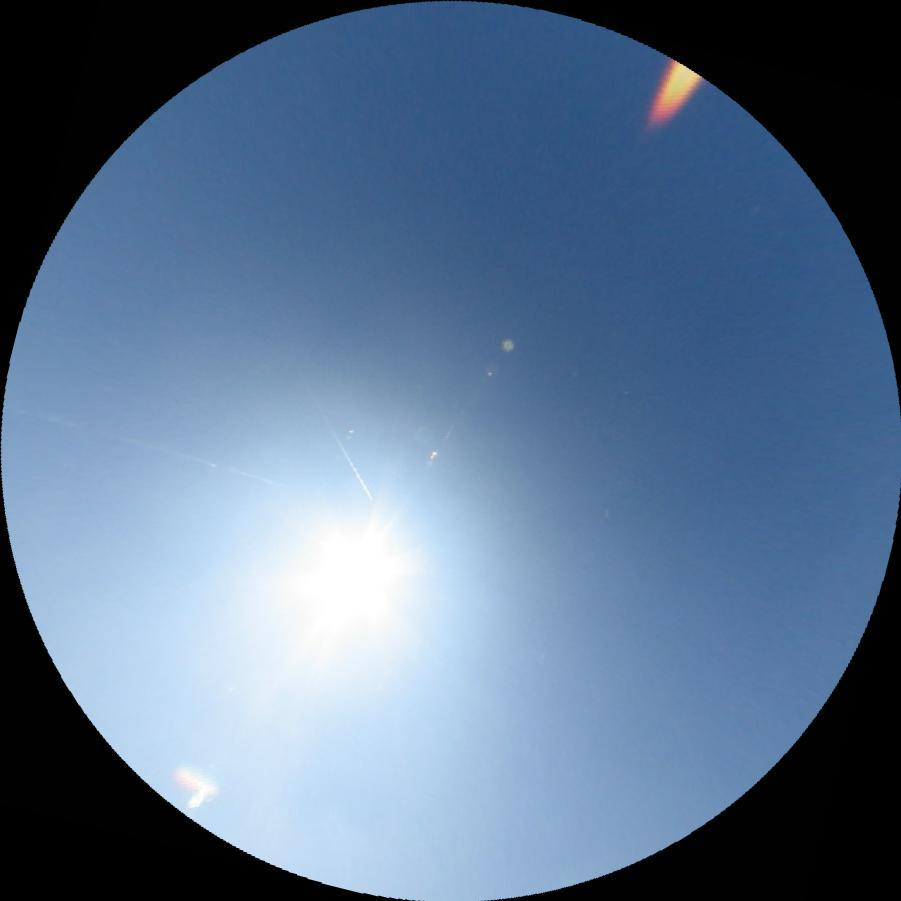contrail young: (294, 364, 373, 499)
parasite: (0, 399, 286, 486)
sun: (287, 518, 403, 641)
